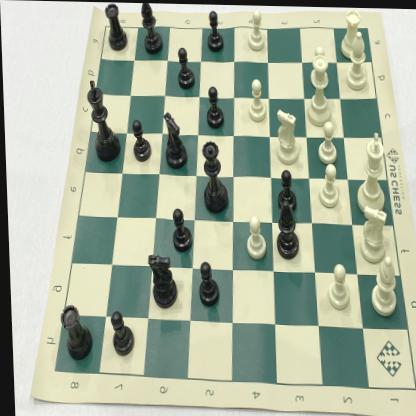black-bishop: (272, 197, 299, 259), (139, 2, 164, 55)
black-king: (84, 78, 120, 162)
black-knight: (144, 251, 176, 309), (161, 111, 187, 170)
black-pawn: (106, 310, 135, 358), (195, 259, 221, 309), (169, 205, 192, 254), (274, 166, 296, 214), (129, 118, 152, 163), (204, 83, 225, 128), (175, 45, 195, 89), (206, 8, 223, 53)
black-queen: (199, 136, 229, 213)
black-rook: (56, 302, 92, 362), (104, 2, 129, 52)
white-bishop: (367, 254, 398, 315), (344, 29, 369, 91)
white-king: (354, 129, 387, 215)
white-knight: (357, 204, 389, 262), (273, 108, 300, 165)
white-pawn: (324, 260, 350, 311), (316, 161, 340, 208), (315, 118, 339, 162), (243, 213, 265, 260), (246, 76, 267, 122), (246, 7, 266, 52), (309, 44, 329, 85)
white-queen: (302, 53, 336, 126)
white-rook: (339, 6, 363, 58)
